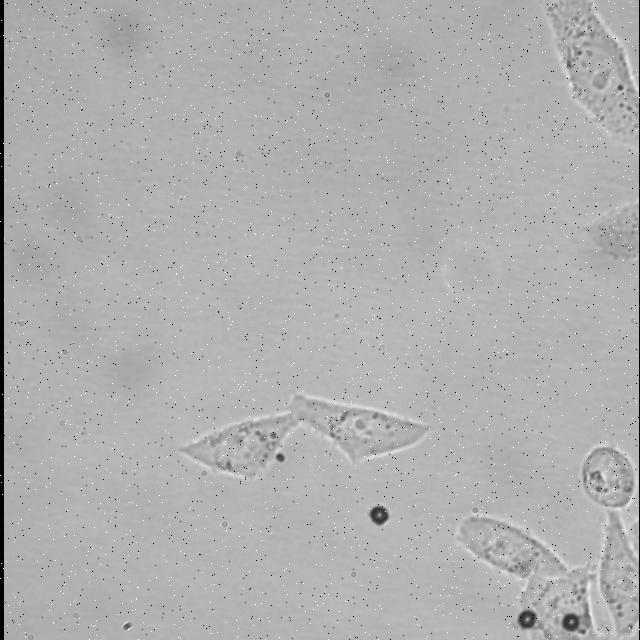microbeads: (366, 502, 388, 528), (560, 614, 580, 634), (514, 608, 534, 626)
